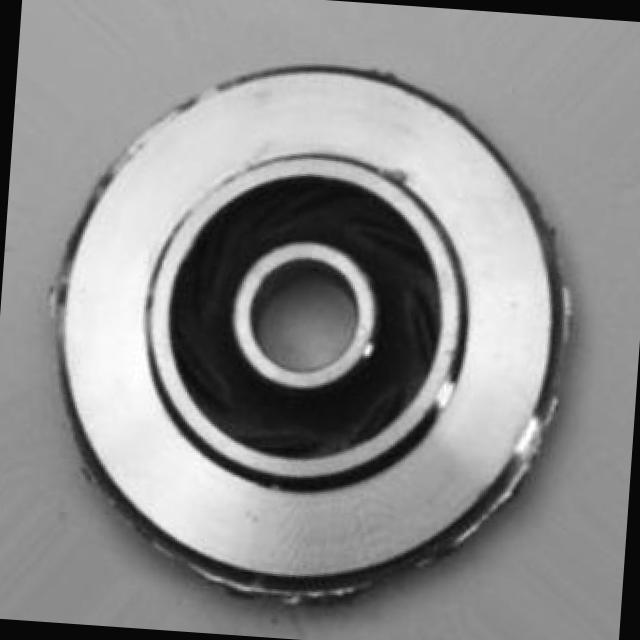Defect: (380, 162, 426, 193)
